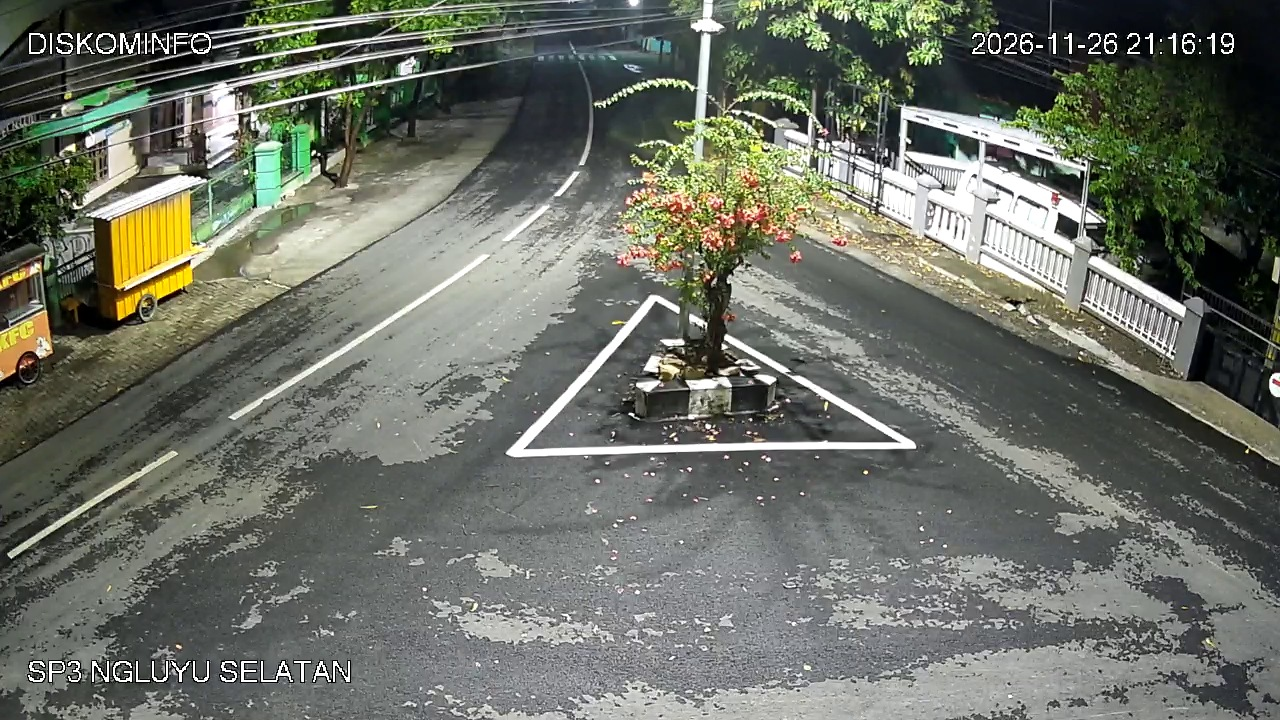Gerobak: (82, 172, 198, 325), (0, 241, 52, 387)
